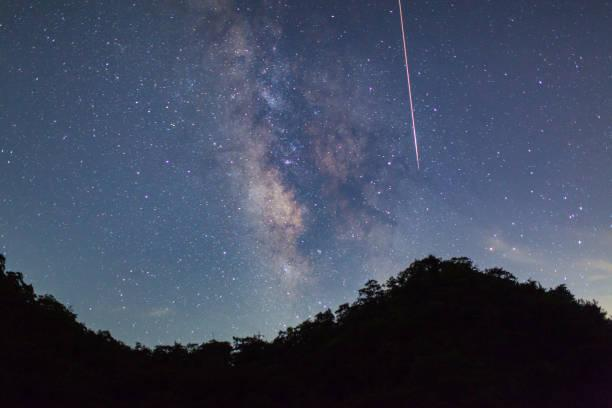meteor: (410, 157, 431, 178)
